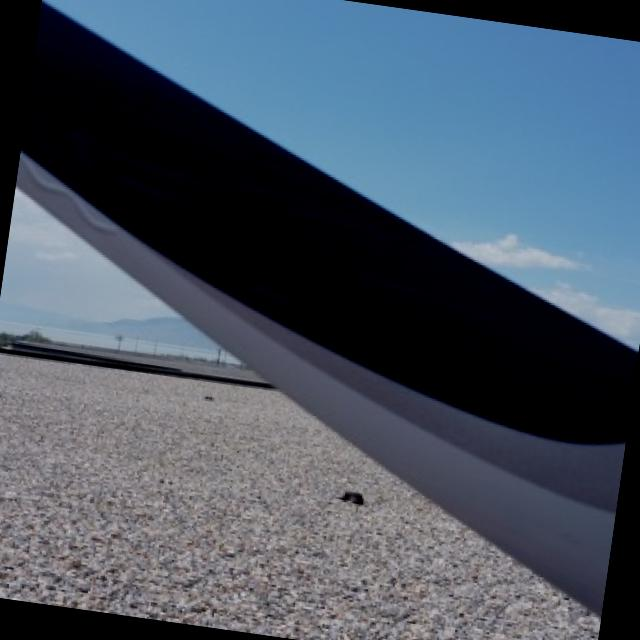healthy: (0, 353, 597, 640)
